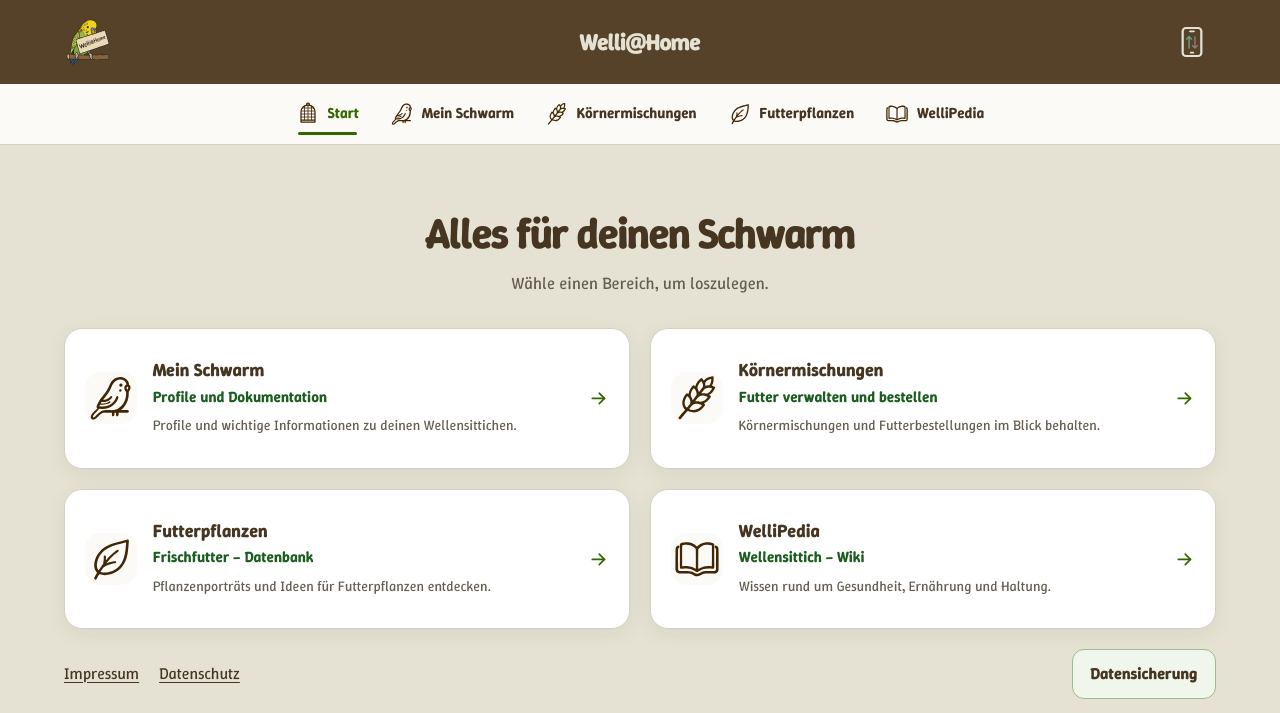
Scenario: Rechtliche Informationsseiten › öffnet die Datenschutzseite über den Startseitenlink
Expected: the heading "Alles für deinen Schwarm" is shown, [425,205,855,261]
Click the link "Datenschutz" at (199, 673), box [159,663,240,684]
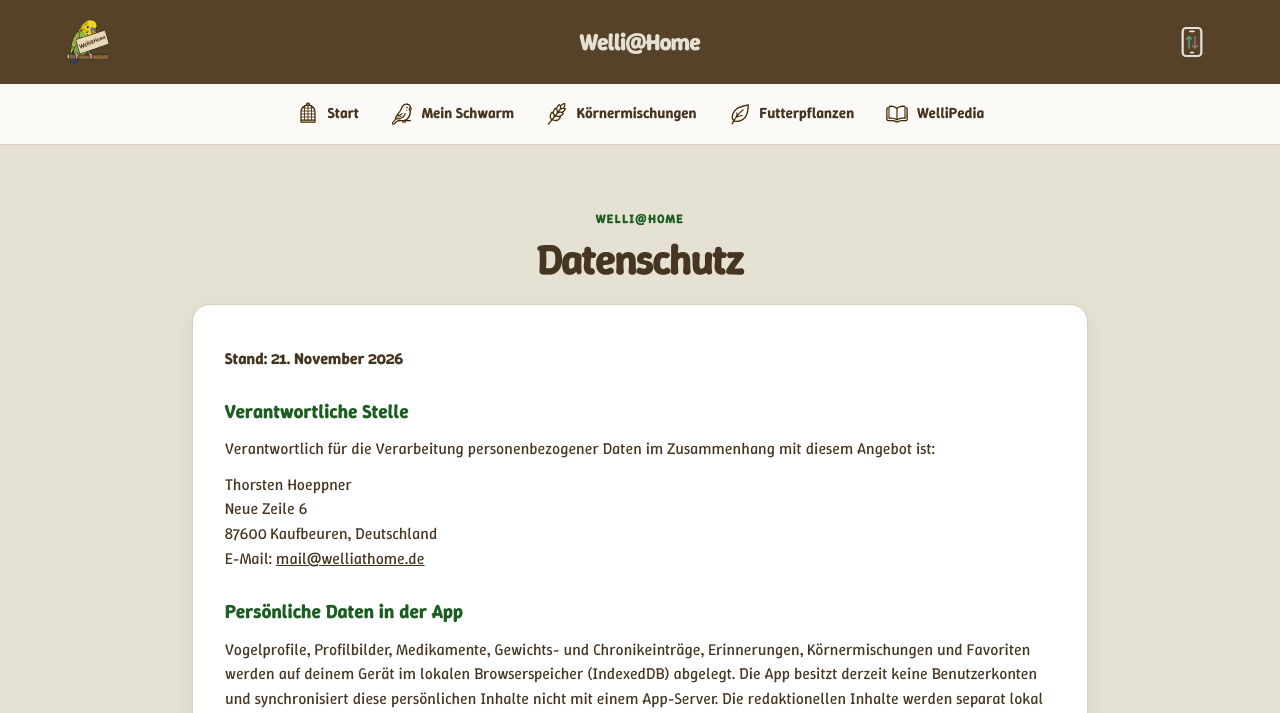
Result: the heading "Datenschutz" is shown at [537,231,743,287]
Result: the text "Stand: 21. November 2026" is shown at [225,348,403,369]
